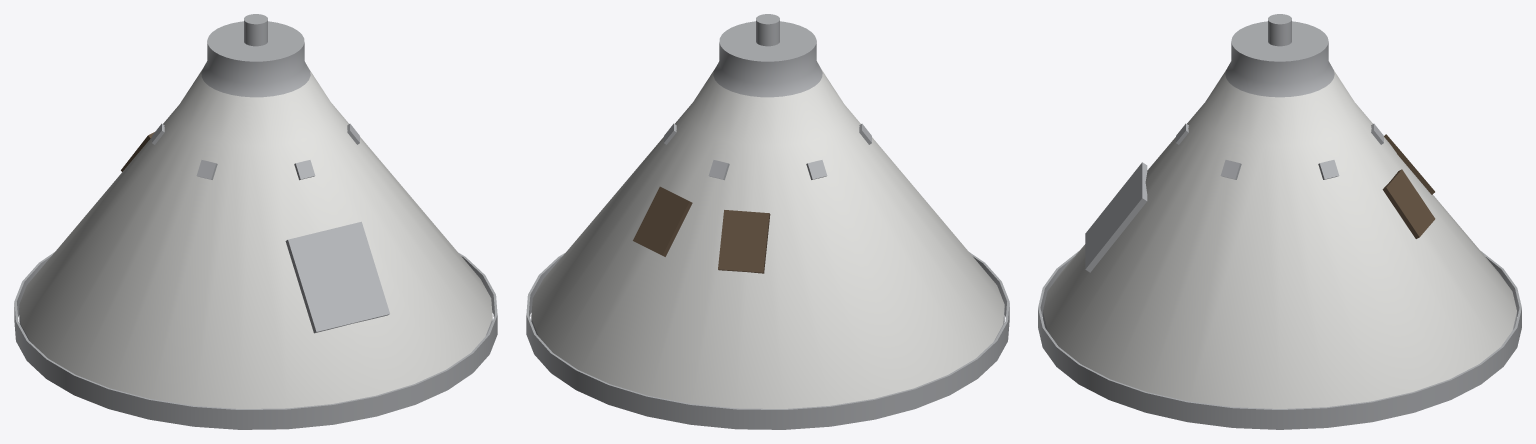
File: Apollo_CM.fbx
3 views of the same model, side by side, from view 1: azimuth 30°, elevation 25°; view 2: azimuth 150°, elevation 25°; view 3: azimuth 270°, elevation 25° (orthographic).
Visible parts, largest first — view 1: Apollo_CM; view 2: Apollo_CM; view 3: Apollo_CM.
Part boxes in pixels (box(x1,y1,x2,y2)): Apollo_CM: box(14, 14, 497, 429); Apollo_CM: box(526, 14, 1009, 429); Apollo_CM: box(1038, 14, 1521, 429).
Bounding box in the file's own units: 3.98 × 3.2 × 3.98.
